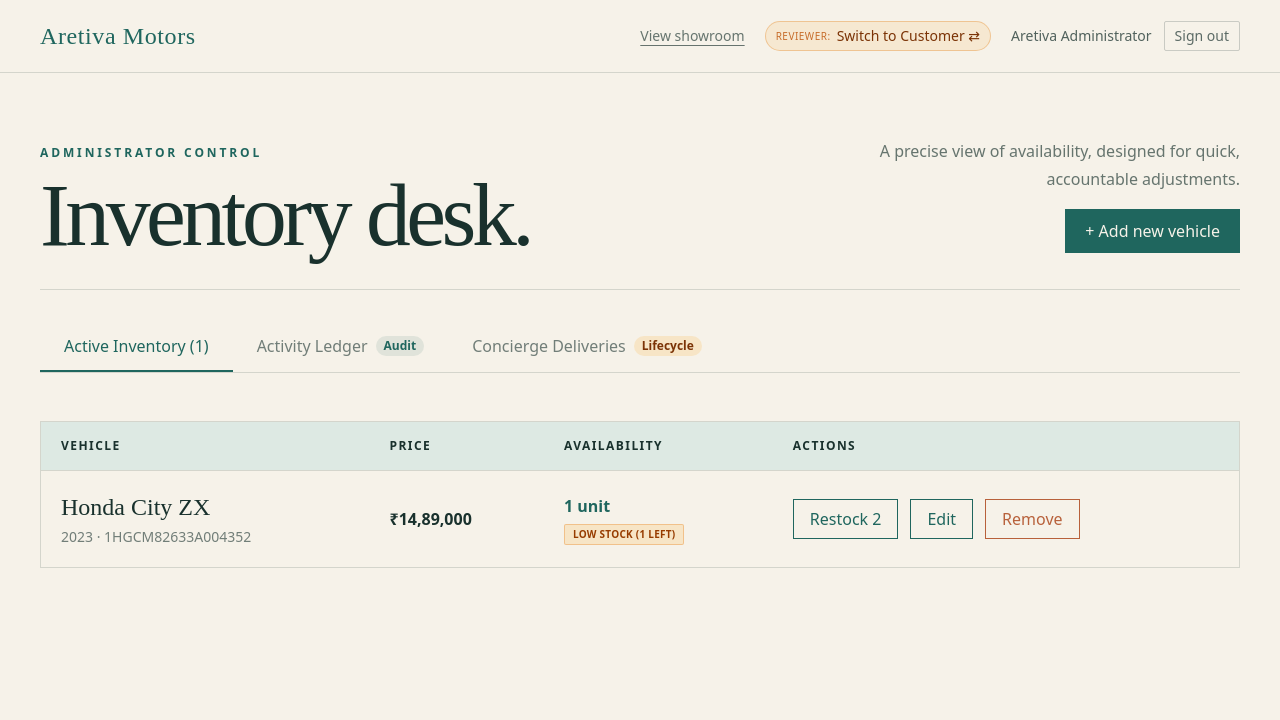
it: administrator inventory desk › shows live inventory and lets an administrator restock a vehicle
Expected: the heading "Inventory desk." is shown, 40,177 -> 530,253
Expected: the text "Honda City ZX" is shown, 61,494 -> 210,520
Click the button "Restock 2" at (846, 519), box 793,499 -> 898,539
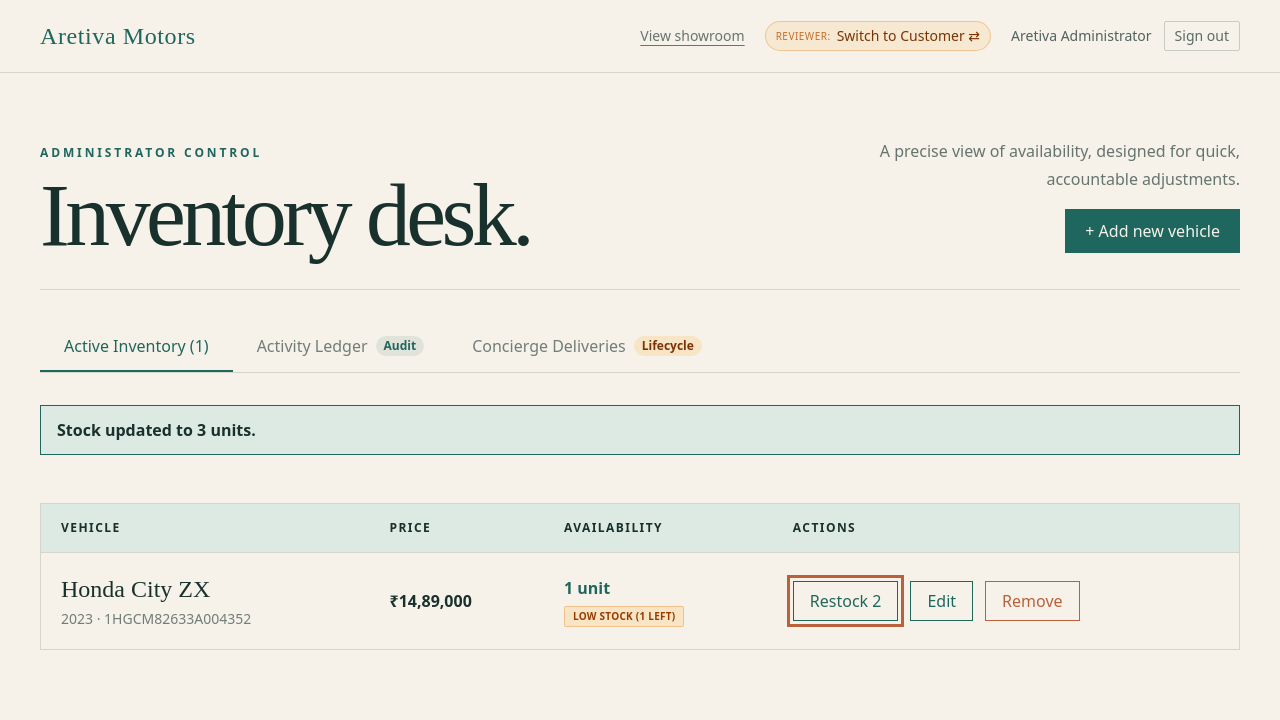
Expected: the message reads "Stock updated to 3 units.", 40,405 -> 1240,455
